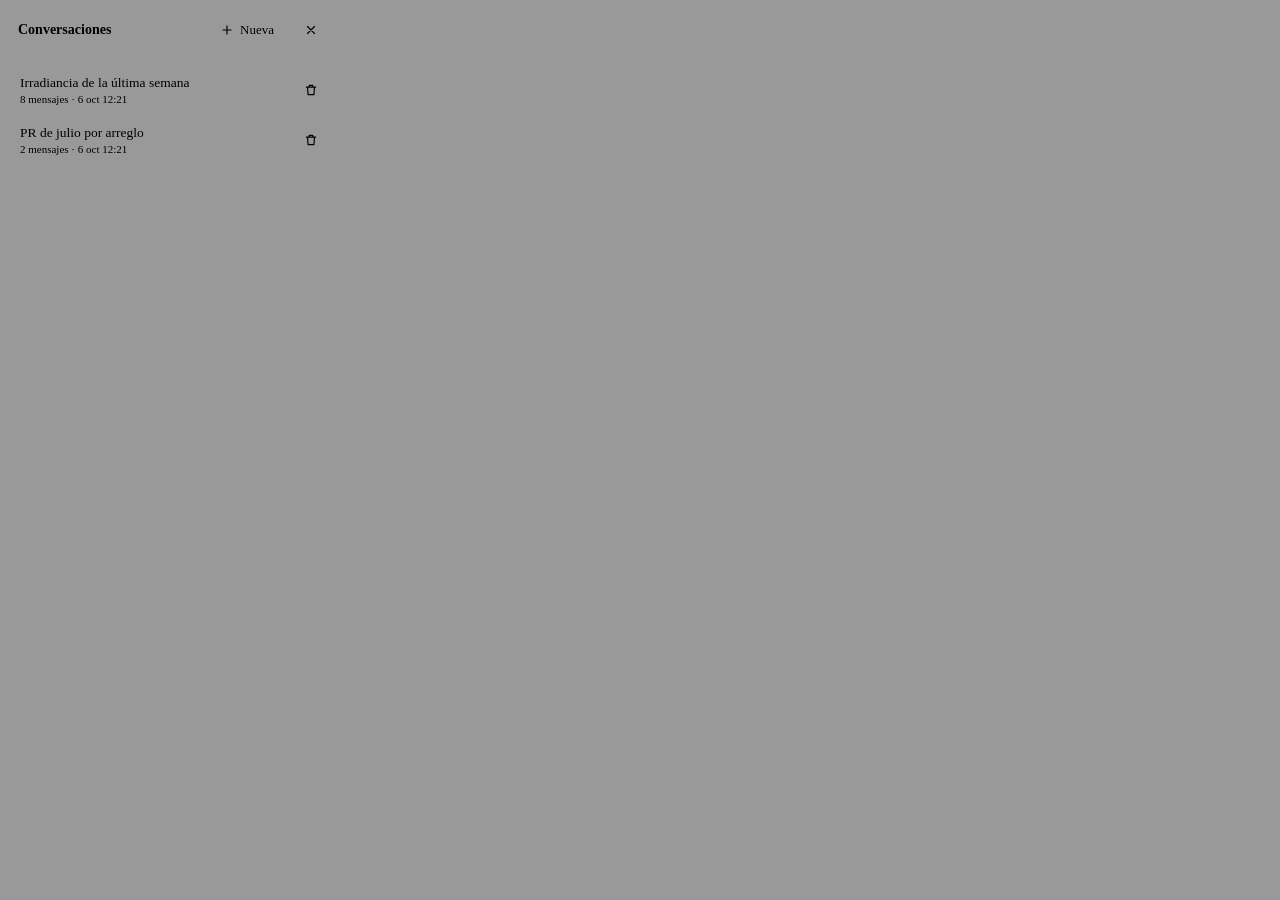
Test: ThreadDrawer › Borrar pide confirmación en el renglón; Cancelar no borra
// When se pide borrar uno y se cancela
Step 1. Click the button named "Borrar «PR de julio por arreglo»" → x=311, y=140, box [296,125,326,155]
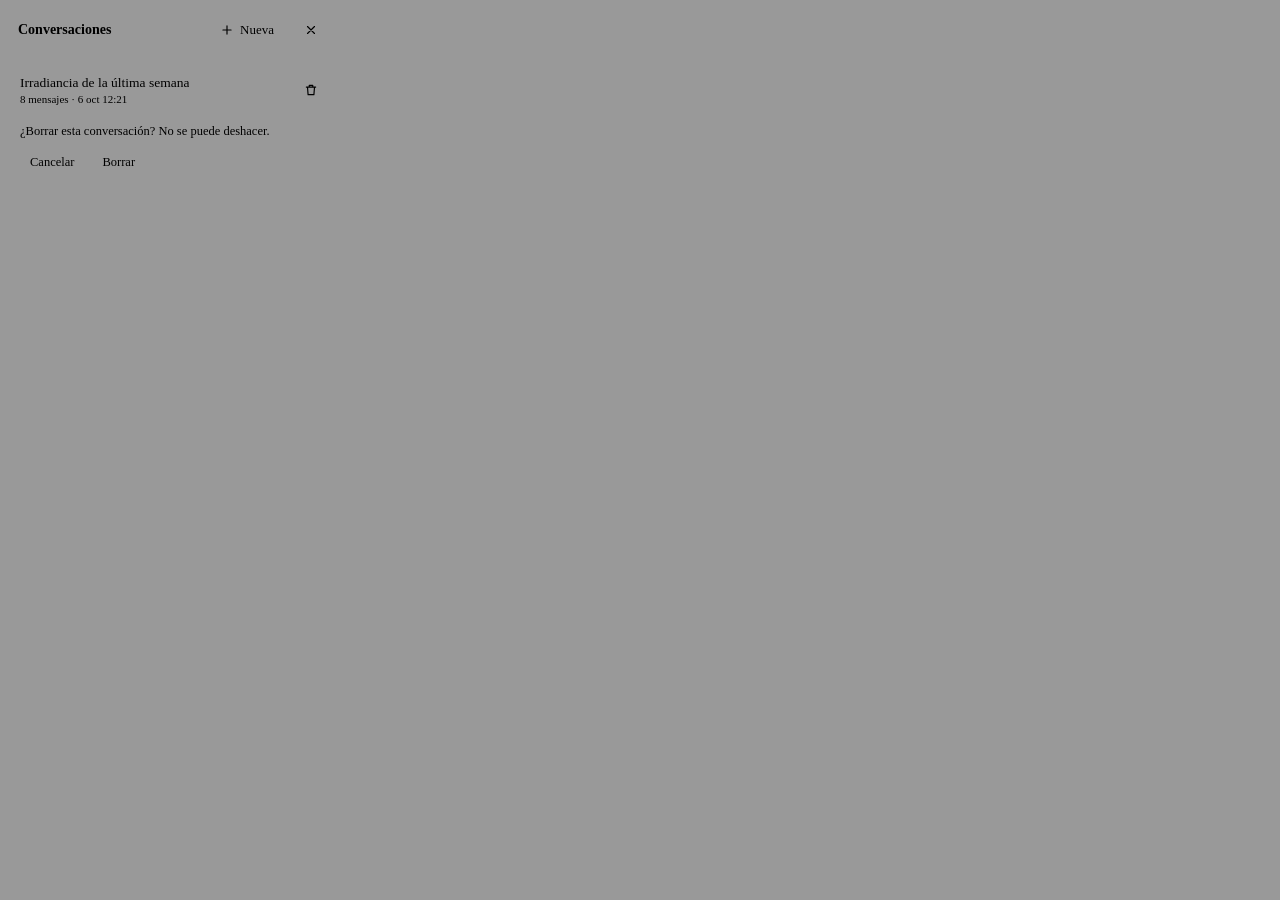
Step 2. Click the button "Cancelar" → x=52, y=162, box [20,147,84,177]
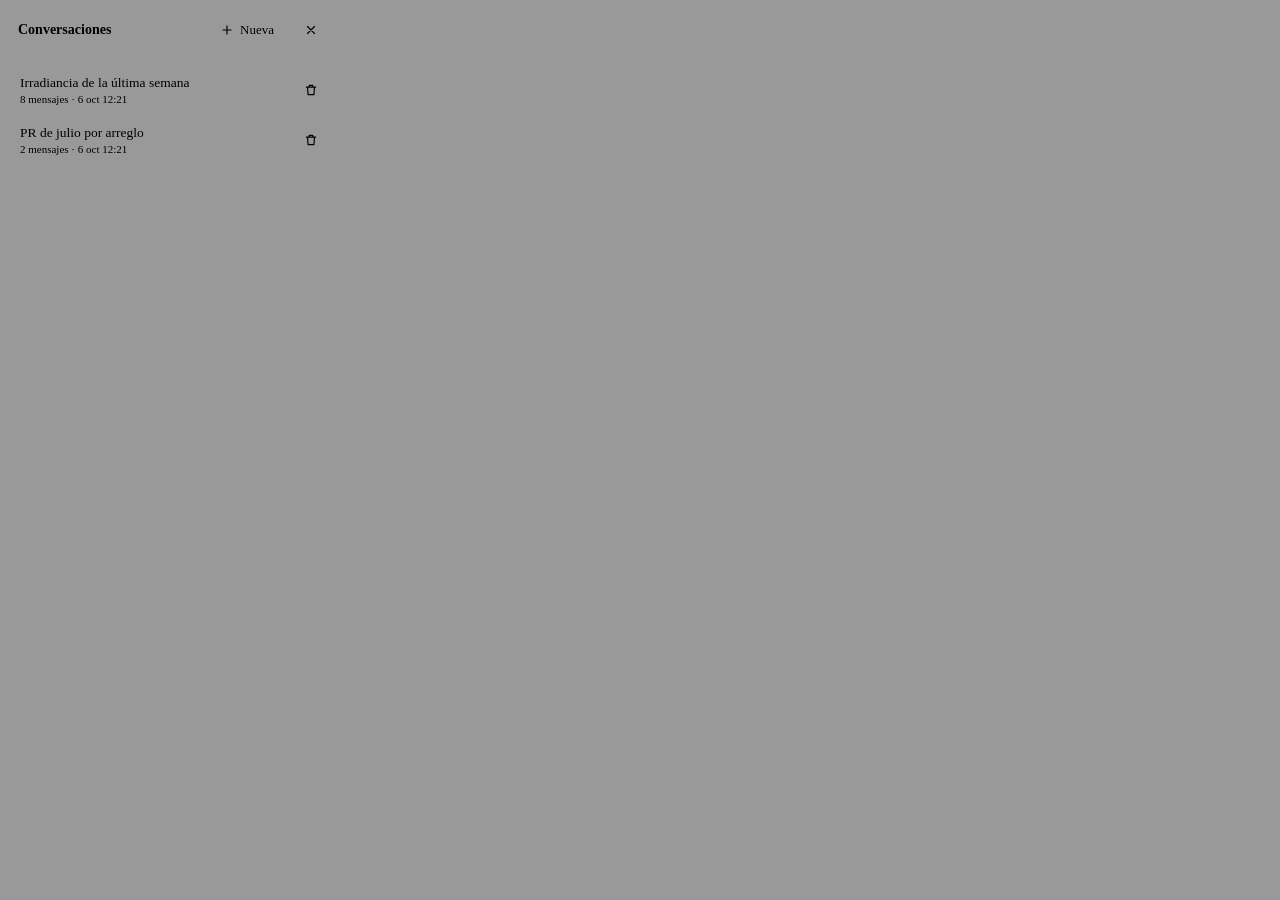
Now the button "PR de julio por arreglo 2 mensajes · 6 oct 12:21" is shown, box [8,116,292,164]
